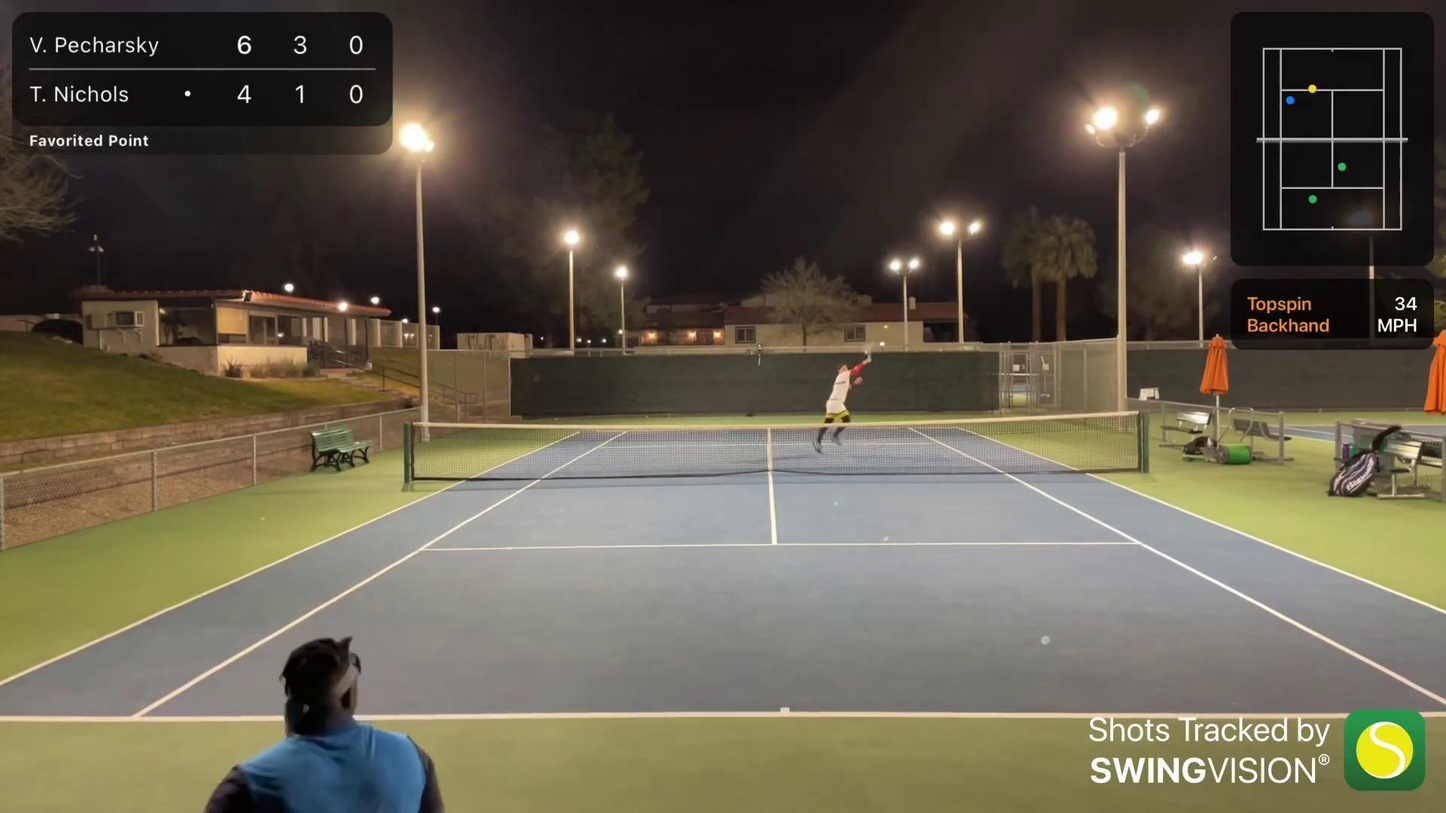ball: (883, 323, 889, 330)
